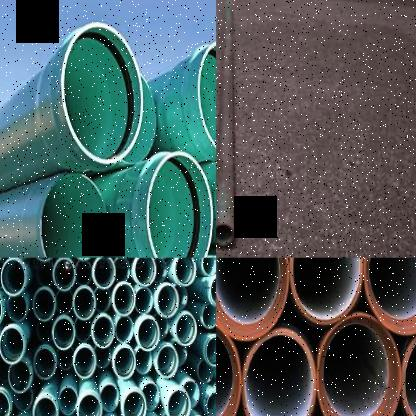pipe: (60, 22, 144, 164), (318, 311, 402, 416), (146, 151, 213, 258), (241, 322, 316, 416), (216, 258, 289, 340), (40, 174, 108, 258), (289, 258, 363, 326), (364, 258, 416, 335), (216, 319, 242, 416), (196, 42, 216, 155), (402, 319, 416, 416), (0, 259, 26, 296), (0, 326, 24, 364), (72, 286, 96, 321), (52, 258, 76, 291), (52, 317, 75, 351), (137, 318, 160, 352), (157, 285, 180, 318), (92, 316, 115, 349), (157, 345, 179, 379), (113, 284, 136, 316), (33, 289, 55, 322), (114, 347, 136, 380), (92, 258, 115, 289), (9, 361, 31, 393), (74, 347, 96, 378), (176, 314, 197, 346), (34, 348, 55, 379), (122, 390, 146, 416), (174, 258, 196, 286), (134, 258, 156, 286), (167, 389, 189, 416), (6, 294, 27, 322), (77, 393, 102, 416), (59, 387, 77, 416), (100, 384, 119, 411), (116, 316, 134, 344), (142, 382, 159, 411), (135, 288, 153, 315), (32, 396, 56, 416), (135, 347, 152, 375), (14, 388, 33, 412), (76, 260, 92, 286), (74, 319, 92, 342), (36, 320, 54, 343), (216, 223, 233, 247), (172, 340, 187, 367), (184, 381, 199, 408), (95, 288, 111, 313), (56, 291, 73, 314), (152, 259, 168, 283), (94, 346, 111, 368), (37, 263, 53, 286), (57, 347, 73, 370), (198, 360, 214, 383), (154, 313, 168, 339), (202, 303, 216, 328), (115, 259, 130, 282), (206, 337, 216, 366), (0, 390, 10, 416), (206, 391, 216, 416), (202, 258, 216, 275), (210, 275, 216, 306), (0, 262, 4, 289), (0, 291, 2, 329), (162, 413, 180, 416)
